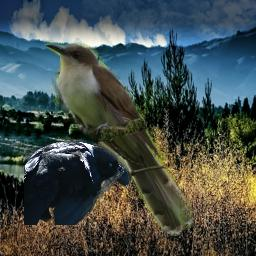Crow: (24, 141, 131, 225)
Cuckoo: (43, 39, 194, 236)
